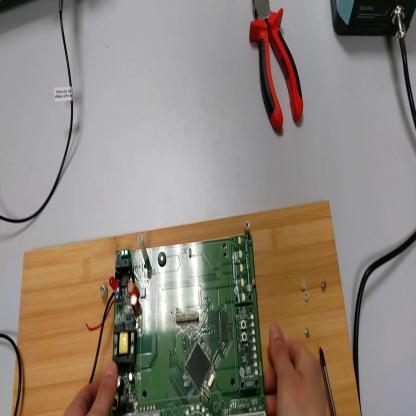hand: (265, 325, 330, 416), (65, 364, 119, 414)
low voltage board: (85, 221, 267, 416)
oscilloscope: (2, 2, 33, 11)
pliers: (250, 1, 305, 134)
screwdriver-: (319, 344, 339, 415)
welder station: (332, 1, 415, 41)
working area: (14, 202, 362, 416)
